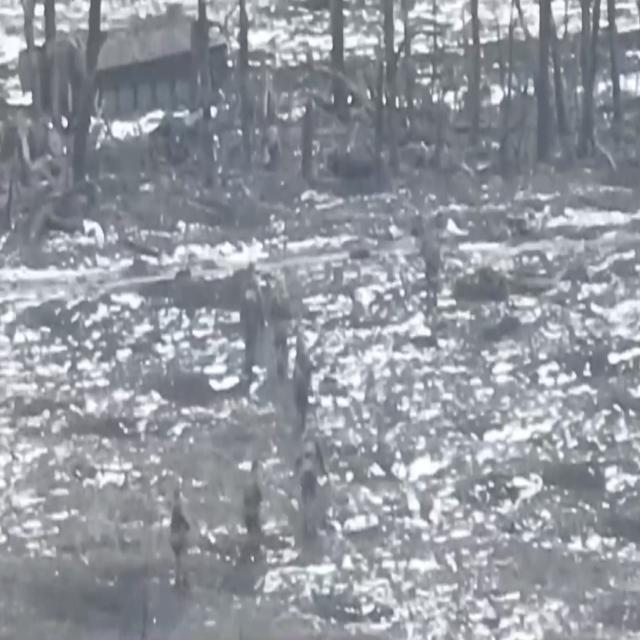infantry: (165, 480, 195, 590), (236, 257, 262, 380), (270, 276, 294, 383), (419, 224, 445, 319), (300, 446, 324, 544), (242, 460, 265, 554), (293, 338, 315, 426)
vehicle: (19, 11, 237, 126)
